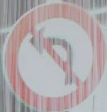Don't turn left: (17, 6, 93, 102)
